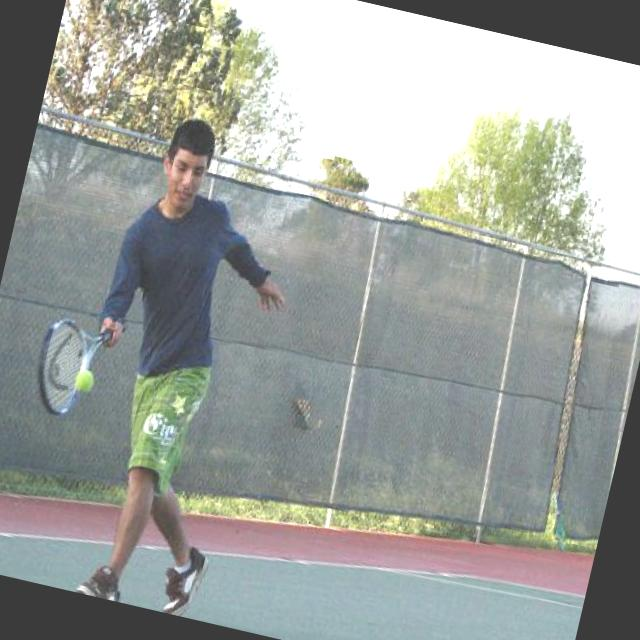Person: (39, 108, 324, 623)
